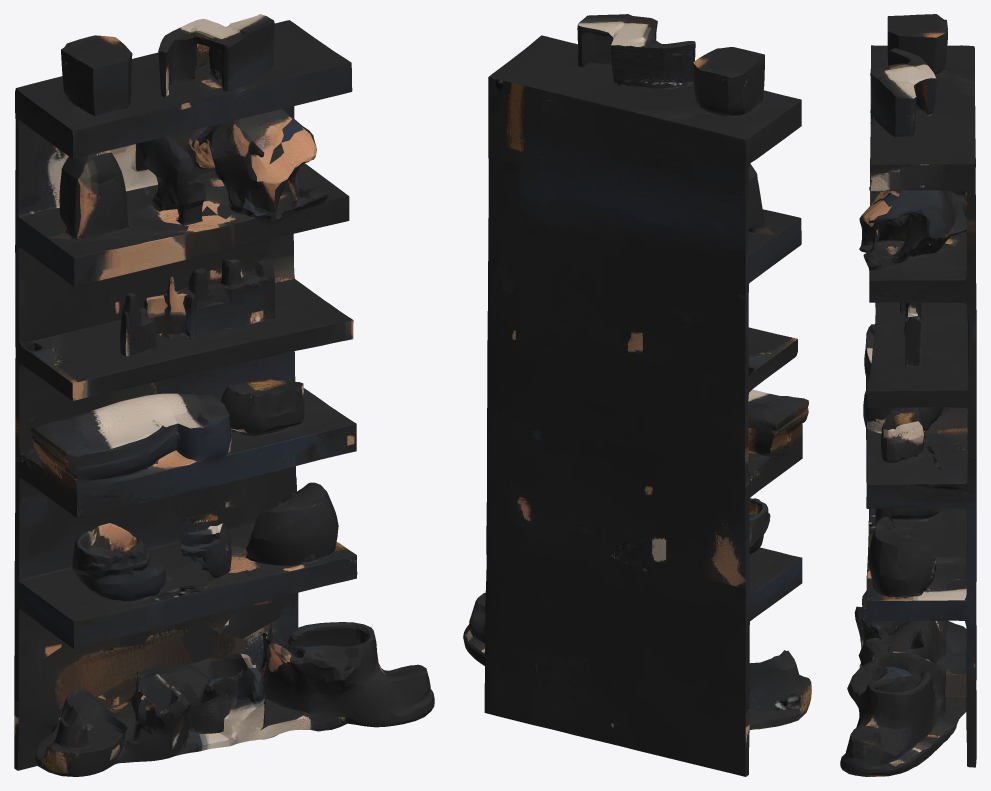
File: shelf.gltf
3 renders of one model, left to right at view 1: azimuth 30°, elevation 25°; view 2: azimuth 150°, elevation 25°; view 3: azimuth 270°, elevation 25°, orthographic. The views are drawn at different scales.
Parts seen in each view (by area): view 1: shelffront_SESSION_1745518930_7589491; view 2: shelffront_SESSION_1745518930_7589491; view 3: shelffront_SESSION_1745518930_7589491.
Boxes of the visible parts, bbox=[...] form: shelffront_SESSION_1745518930_7589491: bbox=[14, 14, 434, 776]; shelffront_SESSION_1745518930_7589491: bbox=[463, 14, 811, 776]; shelffront_SESSION_1745518930_7589491: bbox=[840, 14, 976, 776].
Size of the model in its own units: 0.5311 by 1 by 0.1914.
1 material, 1 textured.
